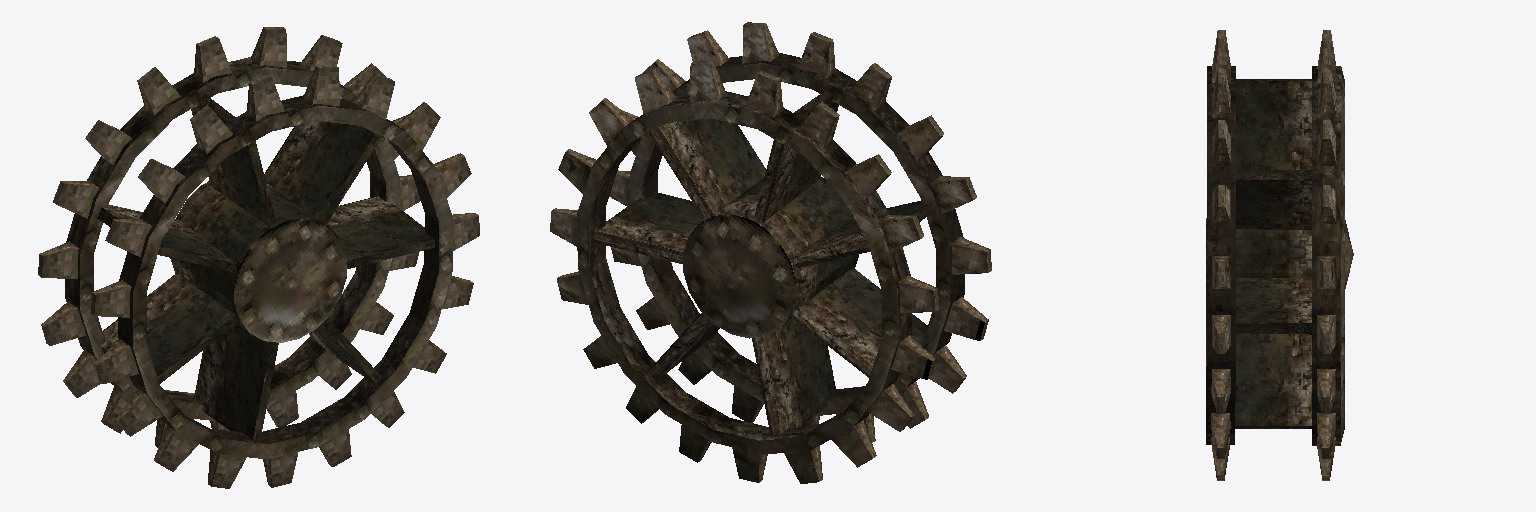
3 renders of one model, left to right at view 1: azimuth 30°, elevation 25°; view 2: azimuth 150°, elevation 25°; view 3: azimuth 270°, elevation 25°, orthographic.
Parts seen in each view (by area): view 1: back_r_Wheel_Wheel.002; view 2: back_r_Wheel_Wheel.002; view 3: back_r_Wheel_Wheel.002.
Part boxes in pixels (bbox=[...]): back_r_Wheel_Wheel.002: bbox=[38, 27, 479, 488]; back_r_Wheel_Wheel.002: bbox=[550, 22, 991, 483]; back_r_Wheel_Wheel.002: bbox=[1206, 30, 1353, 480].
Size of the model in its own units: 1.47 by 1.49 by 0.4867.
1 materials, 1 textured.